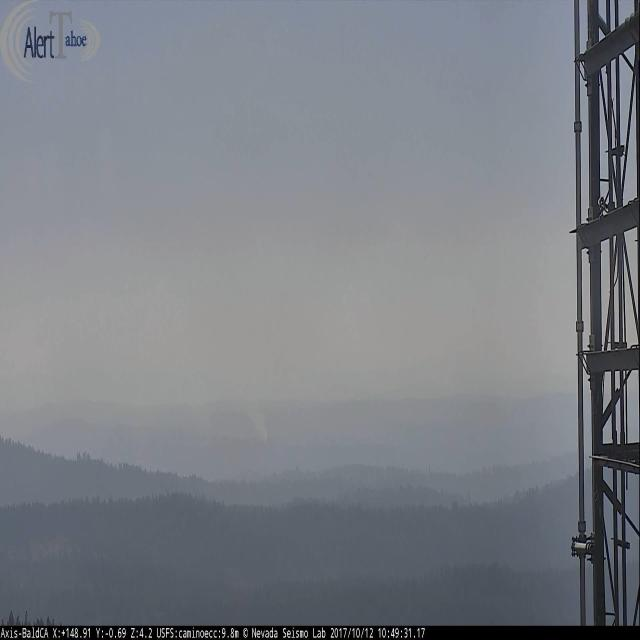smoke: (249, 410, 267, 440)
